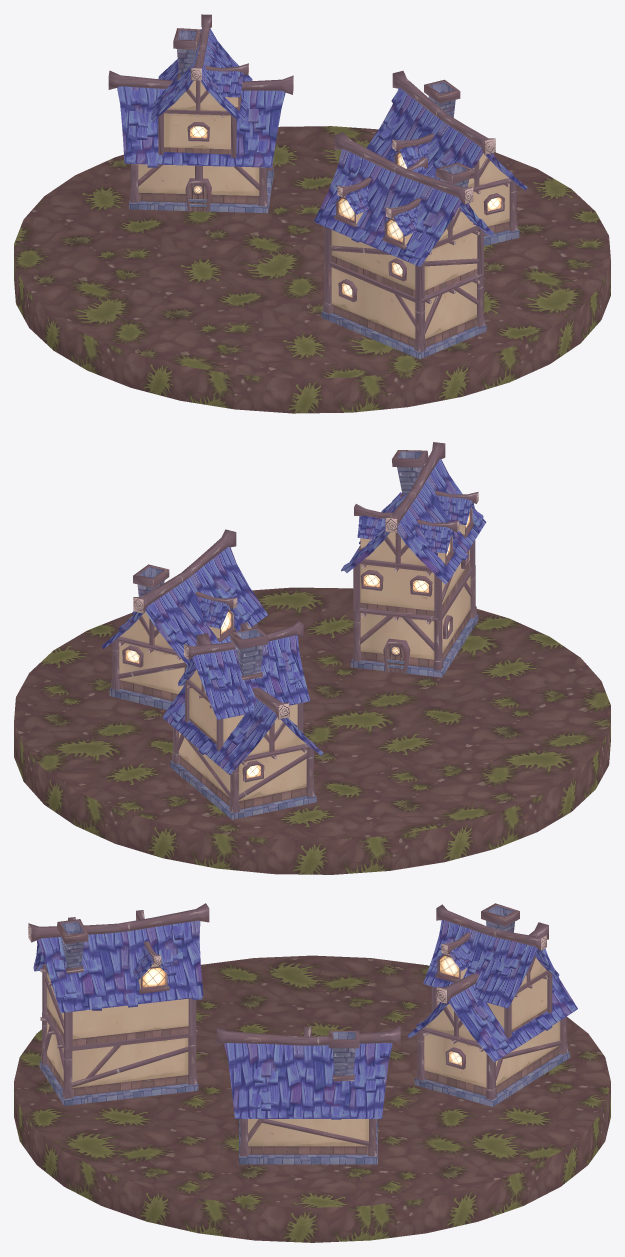
The model's file is low-poly_stylized_medieval_houses.glb.
3 views of the same model, one above another, from view 1: azimuth 30°, elevation 25°; view 2: azimuth 150°, elevation 25°; view 3: azimuth 270°, elevation 25° (orthographic).
Parts seen in each view (by area): view 1: Ground, Roof (×2), Roof3, FirstFloor2, SecondFloor1, FirstFloor, Roof4, SecondFloor2, Wood23_Wood16, Base2, Base, Window_Big2 (+7 smaller); view 2: Ground, Roof (×2), Roof4, Roof3, FirstFloor, FirstFloor2, SecondFloor1, Wood23_Wood16, Base (×2), SecondFloor2, Chimney3, Window_Big (+7 smaller); view 3: Ground, Roof (×2), Roof3, FirstFloor2, SecondFloor1, Roof4, FirstFloor, Wood23_Wood16, Base (×2), SecondFloor2, Base2, Chimney (+6 smaller).
Part boxes in pixels (x1,y1,x2,y2): Ground: (14,126,610,413); Roof (×2): (108,70,527,190); Roof3: (314,132,494,266); FirstFloor2: (323,261,484,352); SecondFloor1: (324,225,483,302); FirstFloor: (129,162,272,206); Roof4: (151,14,252,123); SecondFloor2: (158,109,236,157); Wood23_Wood16: (469,178,517,235); Base2: (321,311,486,359); Base: (129,167,273,213); Window_Big2: (380,198,421,249); Ground: (14,587,610,874); Roof (×2): (101,529,323,774); Roof4: (177,621,310,719); Roof3: (344,442,486,584); FirstFloor: (172,727,314,812); FirstFloor2: (353,565,476,670); SecondFloor1: (353,540,475,620); Wood23_Wood16: (111,623,257,701); Base (×2): (109,687,316,819); SecondFloor2: (185,679,303,751); Chimney3: (230,627,268,679); Window_Big: (195,591,237,641); Ground: (14,955,610,1242); Roof (×2): (216,922,577,1118); Roof3: (28,903,209,1012); FirstFloor2: (41,1011,197,1098); SecondFloor1: (42,964,196,1051); Roof4: (423,904,559,1008); FirstFloor: (416,1016,567,1099); Wood23_Wood16: (239,1119,377,1156); Base (×2): (239,1051,569,1164); SecondFloor2: (431,970,552,1038); Base2: (39,1061,198,1105); Chimney: (328,1030,359,1080).
Size of the model in its own units: 0.225 by 0.0837 by 0.225.
2 materials, 2 textured.
